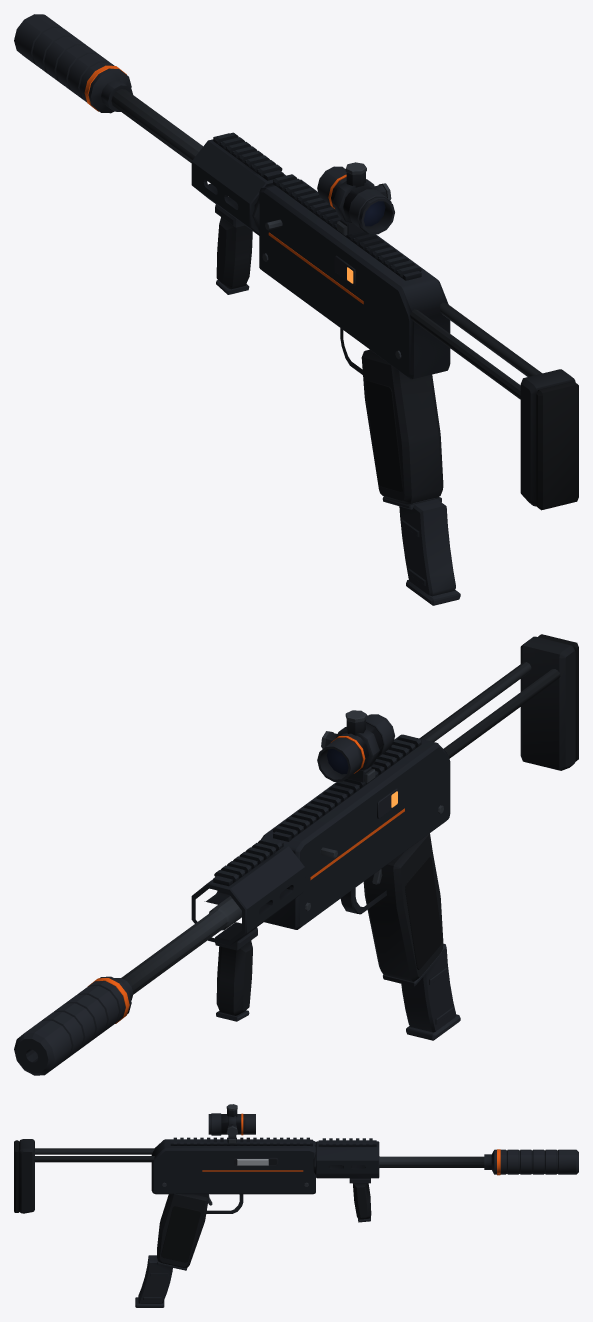
3 views of the same model, one above another, from view 1: azimuth 30°, elevation 25°; view 2: azimuth 150°, elevation 25°; view 3: azimuth 270°, elevation 25° (orthographic). The views are drawn at different scales.
Parts seen in each view (by area): view 1: body_frame, body_polymer, body_frame2, body_rubber, body_steel, mag_frame2, body_accent; view 2: body_frame, body_polymer, body_frame2, body_steel, body_rubber, mag_frame2, body_accent; view 3: body_frame, body_frame2, body_polymer, body_steel, body_rubber, mag_frame2, body_accent.
Part boxes in pixels (box(x1,y1,x2,y2)): body_frame: box(191, 132, 450, 379); body_polymer: box(216, 217, 575, 506); body_frame2: box(14, 14, 441, 509); body_rubber: box(365, 380, 578, 510); body_steel: box(111, 89, 542, 399); mag_frame2: box(399, 498, 460, 605); body_accent: box(84, 65, 363, 304); body_frame: box(191, 734, 450, 946); body_polymer: box(216, 636, 575, 1015); body_frame2: box(14, 714, 441, 1075); body_steel: box(121, 662, 560, 994); body_rubber: box(405, 634, 578, 969); mag_frame2: box(401, 943, 460, 1040); body_accent: box(87, 736, 404, 1023); body_frame: box(151, 1137, 379, 1194); body_frame2: box(157, 1109, 578, 1270); body_polymer: box(19, 1139, 371, 1267); body_steel: box(34, 1104, 484, 1205); body_rubber: box(14, 1140, 200, 1262); mag_frame2: box(135, 1255, 172, 1307); body_accent: box(202, 1113, 500, 1175).
Size of the model in its own units: 0.0635 by 0.346 by 0.894.
